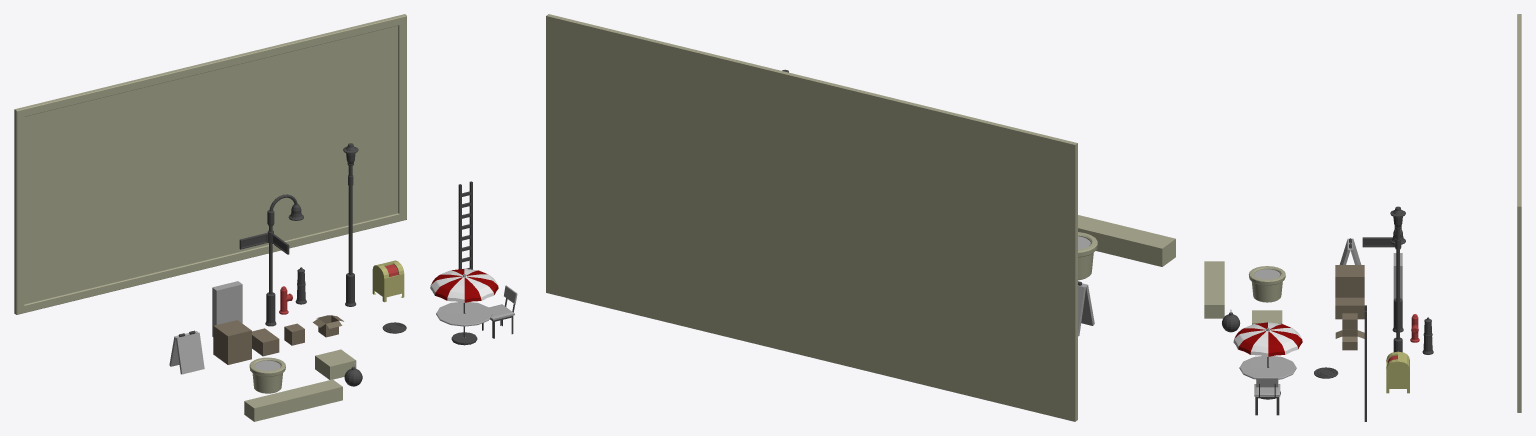
File: StreetObjects.fbx
3 views of the same model, side by side, from view 1: azimuth 30°, elevation 25°; view 2: azimuth 150°, elevation 25°; view 3: azimuth 270°, elevation 25° (orthographic). The views are drawn at different scales.
Visible parts, largest first — view 1: polySurface18, pCube11, Umbrella, pCube6, pCube1, pCube8, polySurface27, polySurface15, pPlane2, pCube10, polySurface38, pCube5 (+2 smaller); view 2: polySurface18, pCube11, polySurface38, pCube8; view 3: polySurface18, Umbrella, pCube11, polySurface27, pCube6, polySurface38, polySurface15, pCube5, pCube7, pCube10, polySurface10, pPlane2 (+4 smaller).
Part boxes in pixels (x1=…): polySurface18: x1=14, y1=14, x2=406, y2=314; pCube11: x1=244, y1=379, x2=342, y2=421; Umbrella: x1=430, y1=268, x2=498, y2=302; pCube6: x1=213, y1=320, x2=251, y2=364; pCube1: x1=212, y1=281, x2=242, y2=336; pCube8: x1=169, y1=331, x2=204, y2=374; polySurface27: x1=436, y1=302, x2=492, y2=326; polySurface15: x1=372, y1=260, x2=404, y2=302; pPlane2: x1=458, y1=181, x2=472, y2=269; pCube10: x1=315, y1=349, x2=356, y2=379; polySurface38: x1=249, y1=357, x2=285, y2=393; pCube5: x1=252, y1=328, x2=279, y2=356; polySurface18: x1=546, y1=14, x2=1077, y2=421; pCube11: x1=1078, y1=215, x2=1175, y2=266; polySurface38: x1=1078, y1=232, x2=1097, y2=280; pCube8: x1=1078, y1=283, x2=1094, y2=336; polySurface18: x1=1517, y1=14, x2=1521, y2=412; Umbrella: x1=1233, y1=322, x2=1302, y2=356; pCube11: x1=1204, y1=261, x2=1224, y2=318; polySurface27: x1=1239, y1=356, x2=1296, y2=379; pCube6: x1=1335, y1=265, x2=1364, y2=297; polySurface38: x1=1248, y1=266, x2=1285, y2=302; polySurface15: x1=1386, y1=351, x2=1409, y2=393; pCube5: x1=1335, y1=297, x2=1364, y2=319; pCube7: x1=1335, y1=329, x2=1364, y2=350; pCube10: x1=1252, y1=310, x2=1282, y2=330; polySurface10: x1=1396, y1=229, x2=1399, y2=339; pPlane2: x1=1364, y1=305, x2=1366, y2=421.
Bounding box in the file's own units: 15 × 8.03 × 10.45.
